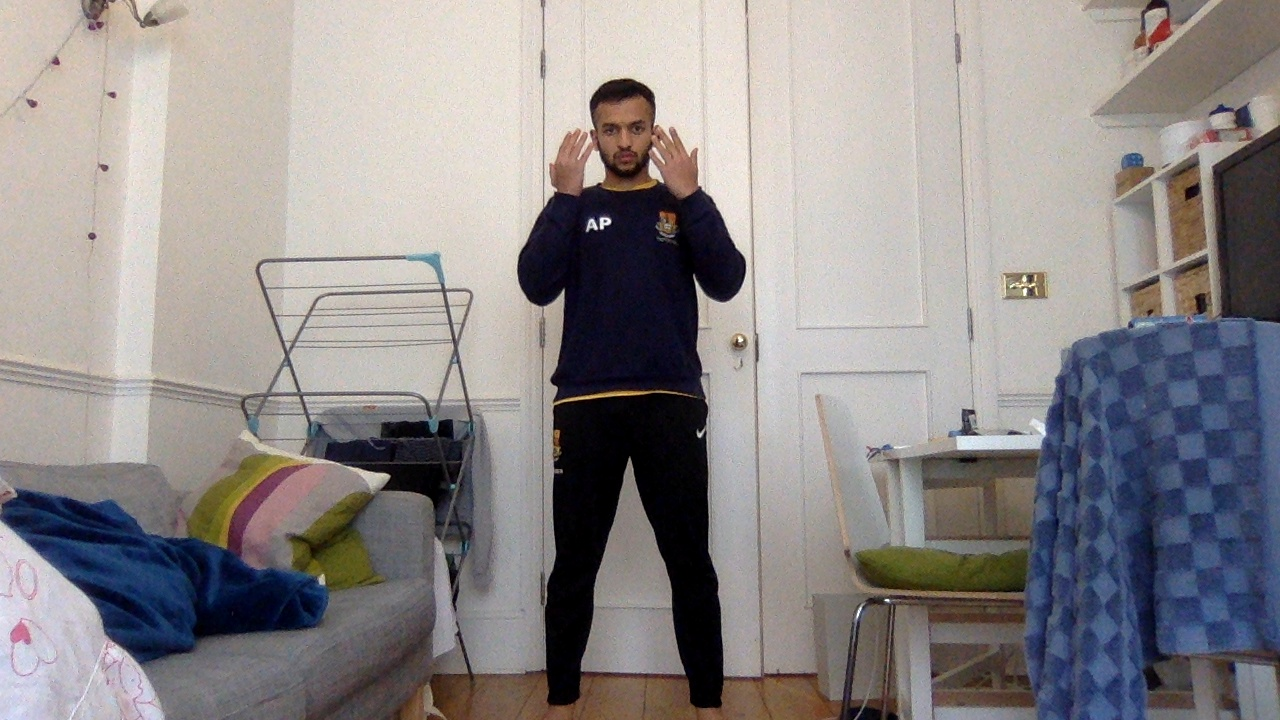hand: (543, 128, 596, 199), (648, 126, 698, 197)
